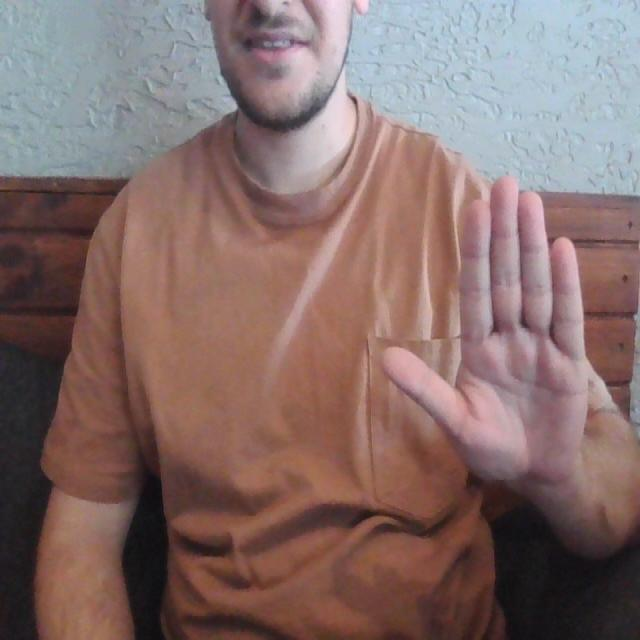Dur: (378, 152, 590, 497)
